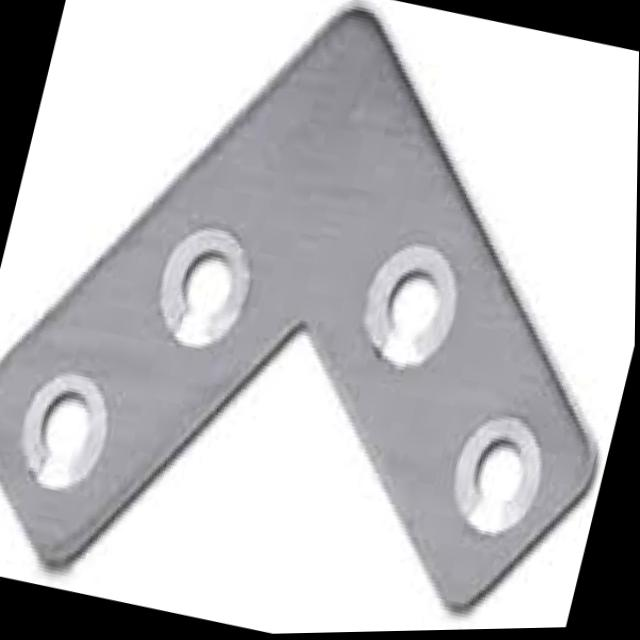holes: (349, 233, 470, 379), (147, 218, 262, 356), (441, 407, 553, 545), (8, 363, 120, 497)
